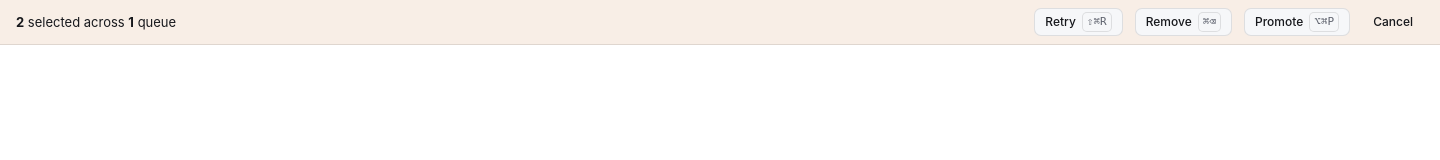
BulkActionBar: executing + complete states › connectionLocked error synthesizes a complete summary with the unlock hint
Click the button with test id "bulk-action-retry". click: (1078, 22)
box: [1034,8,1123,36]
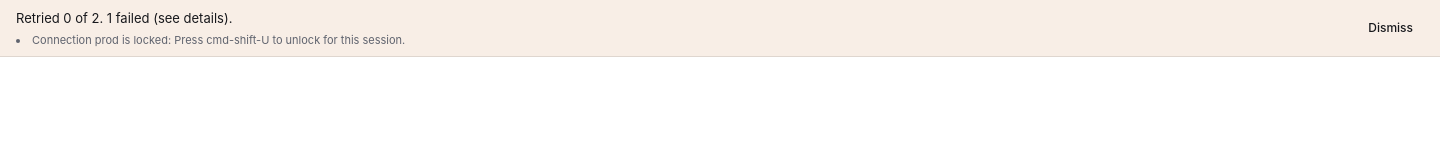
Check: the element with test id "bulk-action-bar-complete" shows "cmd-shift-U", box [32,33,405,47]
